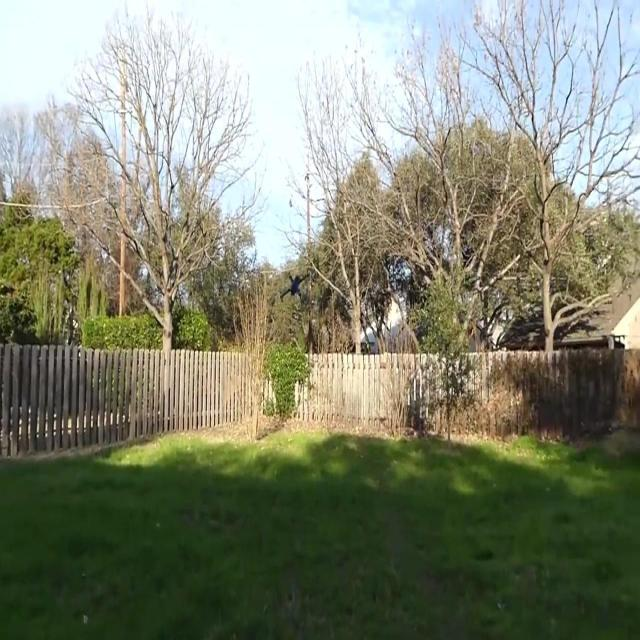drone: (278, 271, 312, 301)
